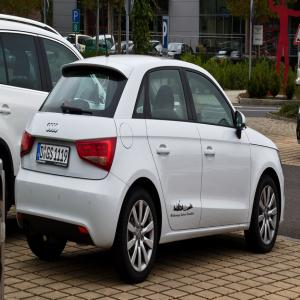Vehicle-registration-plate: (30, 135, 72, 175)
